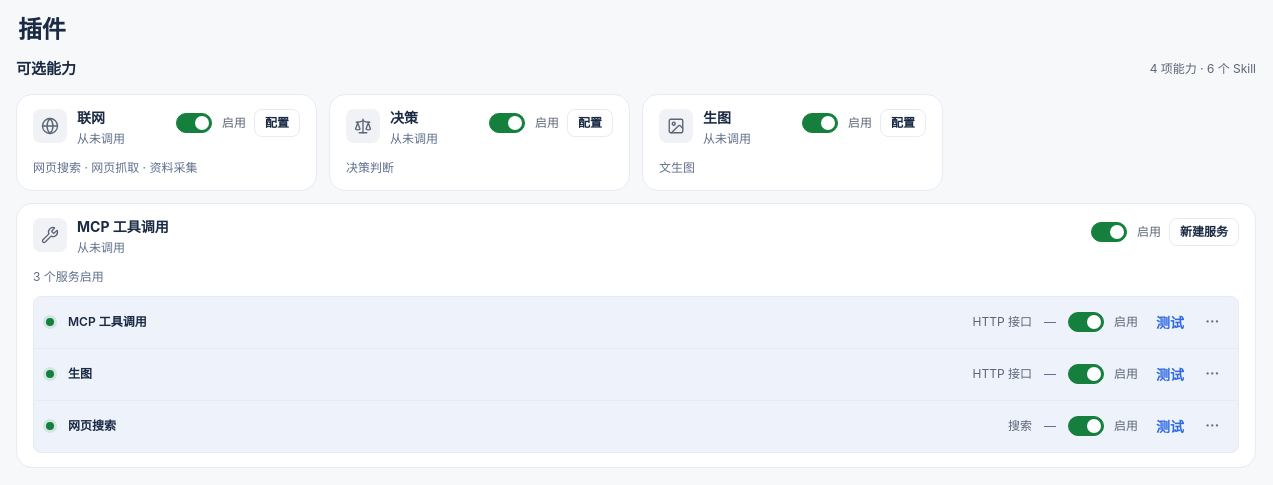
Test case: Addons 插件页（2026-10-20 定名：原「外挂能力」） › 开关直接落库，并跟随返回状态；停用只压信息层
Click the switch with class "mk-switch" in the row of "联网": (211, 123) [176,111,246,135]
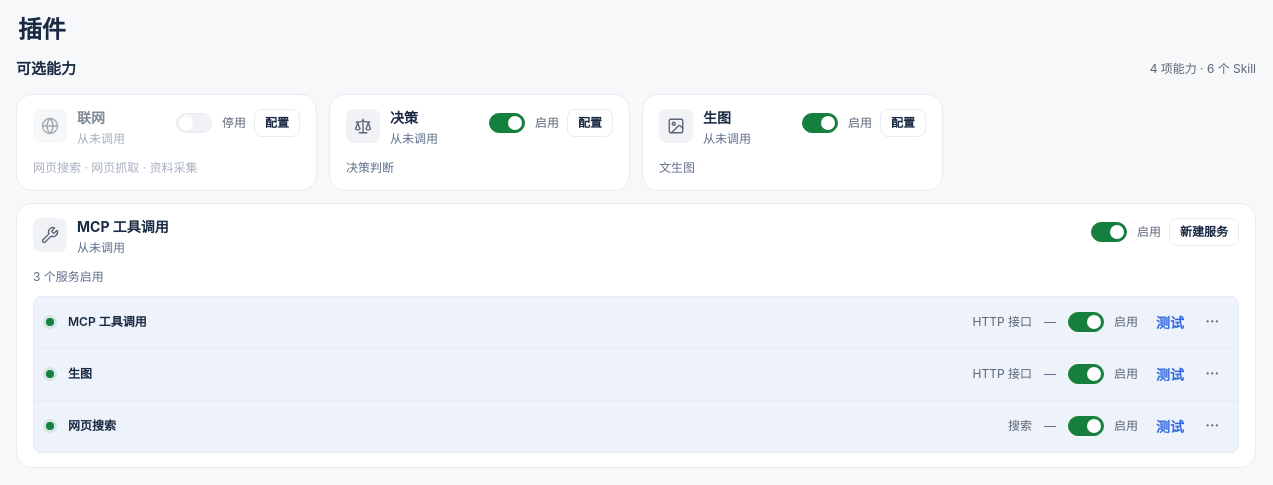
Now the element with class "ac-cap" shows "停用", box [176,111,246,135]
